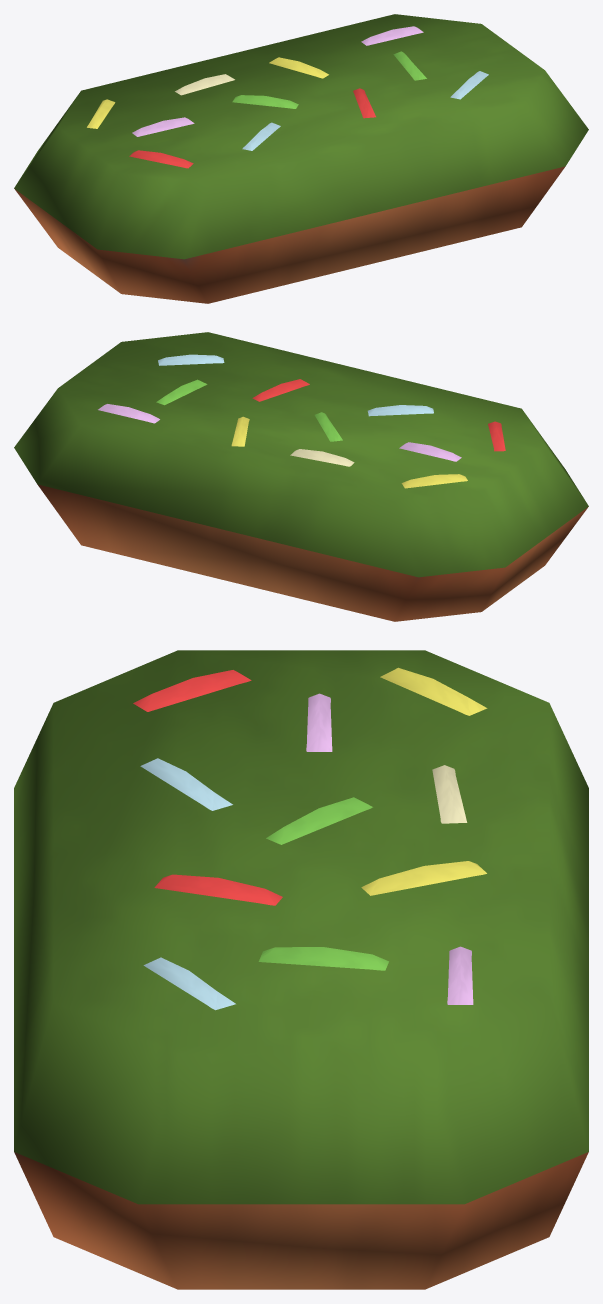
File: Doughnut_Bar_F_4.FBX
3 views of the same model, one above another, from view 1: azimuth 30°, elevation 25°; view 2: azimuth 150°, elevation 25°; view 3: azimuth 270°, elevation 25° (orthographic). The views are drawn at different scales.
Visible parts, largest first — view 1: Doughnut_Bar; view 2: Doughnut_Bar; view 3: Doughnut_Bar.
Boxes of the visible parts, x1,y1,x2,y2 form: Doughnut_Bar: (14,14,588,303); Doughnut_Bar: (14,332,588,621); Doughnut_Bar: (14,650,588,1289).
Bounding box in the file's own units: 75.48 × 18.74 × 39.15.
